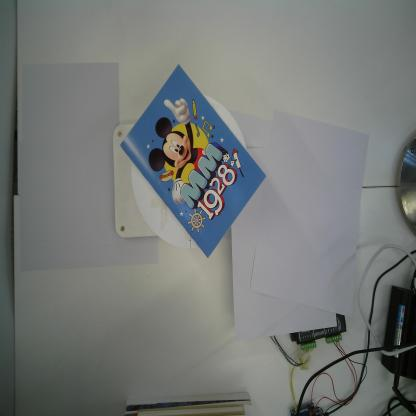Stationery: (119, 64, 268, 258)
